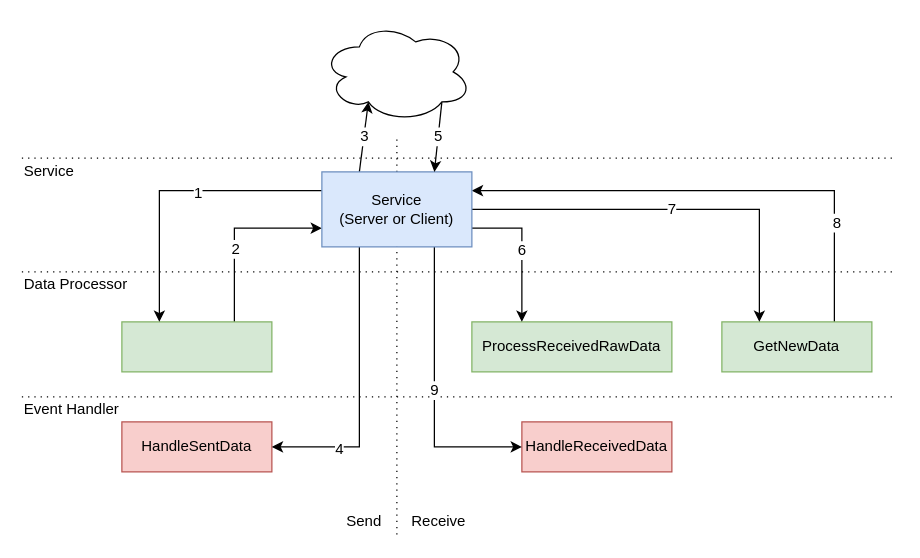
Image size: 920x558. Some labels were removed from this diagram. Each missing label, with the centre of its shape:
"FilterSendData" goes at (x=196, y=346).
"Network" goes at (x=396, y=71).
